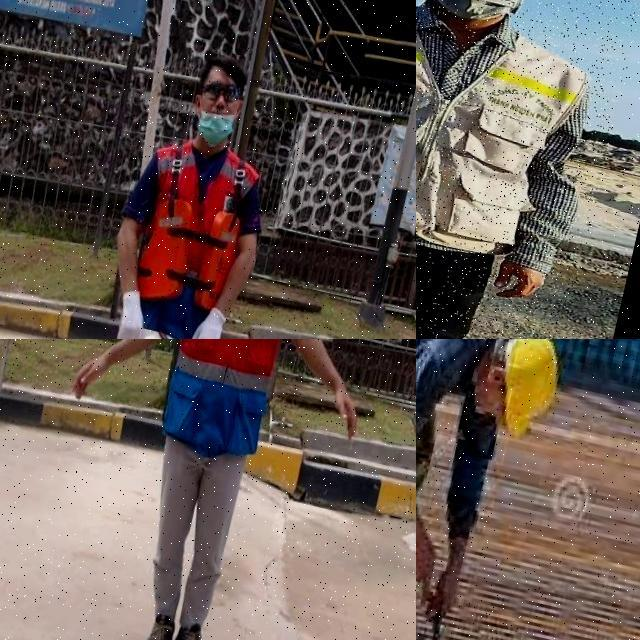boots: (131, 605, 179, 640), (162, 614, 219, 640)
helmet: (483, 339, 574, 451)
vest: (416, 0, 610, 276), (116, 132, 265, 339), (147, 339, 306, 460)
